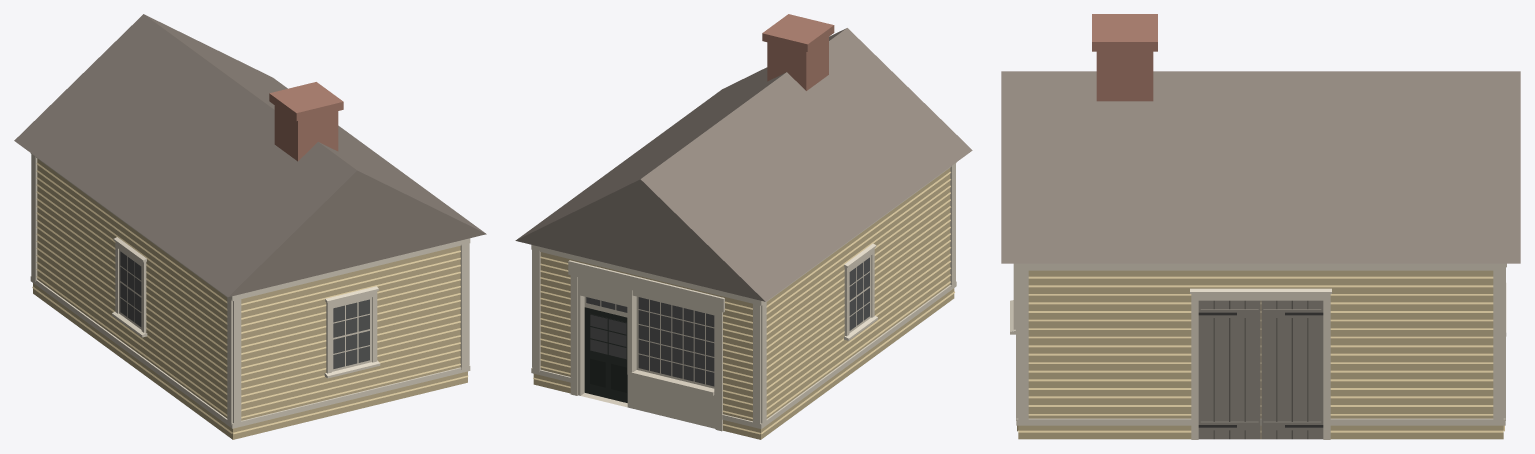
Rendered from recon_1835_core_c1_004__inferred_1835.glb.
The picture shows the model from 3 angles, left to right: view 1: azimuth 30°, elevation 25°; view 2: azimuth 150°, elevation 25°; view 3: azimuth 270°, elevation 25°; orthographic projection. The views are drawn at different scales.
Parts seen in each view (by area): view 1: recon_1835_core_c1_004__inferred_1835; view 2: recon_1835_core_c1_004__inferred_1835; view 3: recon_1835_core_c1_004__inferred_1835.
Part boxes in pixels (x1,y1,x2,y2): recon_1835_core_c1_004__inferred_1835: (14,14,486,439); recon_1835_core_c1_004__inferred_1835: (515,14,972,439); recon_1835_core_c1_004__inferred_1835: (1001,14,1520,439).
Size of the model in its own units: 5.38 by 5.59 by 7.7.
